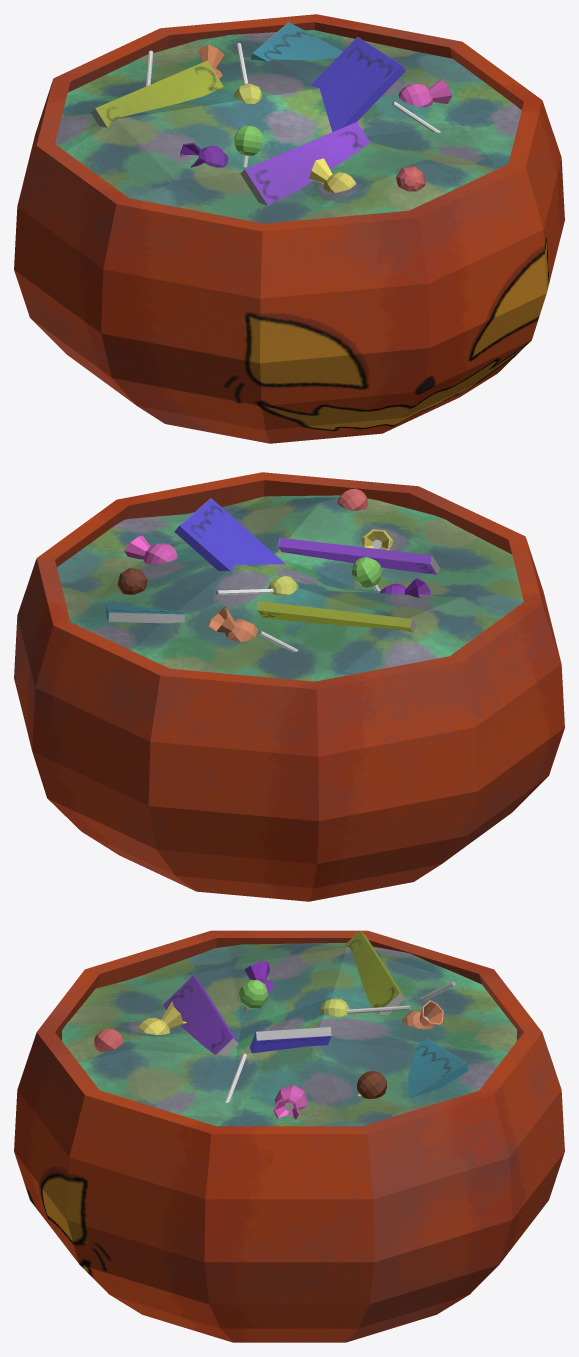
Rendered from CandyBowl1.fbx.
3 renders of one model, top to bottom at view 1: azimuth 30°, elevation 25°; view 2: azimuth 150°, elevation 25°; view 3: azimuth 270°, elevation 25°, orthographic. The views are drawn at different scales.
Parts seen in each view (by area): view 1: CandyBowl01_Model; view 2: CandyBowl01_Model; view 3: CandyBowl01_Model.
Boxes of the visible parts, x1,y1,x2,y2 form: CandyBowl01_Model: (14, 14, 564, 443); CandyBowl01_Model: (14, 472, 564, 901); CandyBowl01_Model: (14, 930, 564, 1342).
Size of the model in its own units: 25.7 by 27.02 by 15.44.
